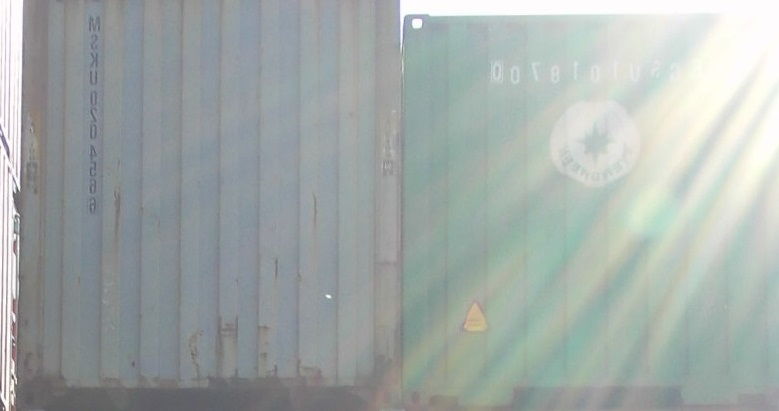container_no_door: (23, 3, 398, 398), (406, 14, 775, 404)
